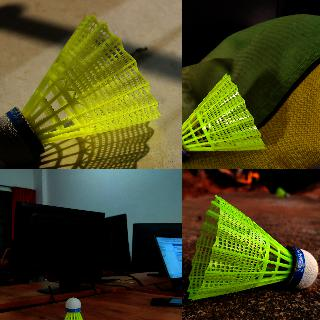shuttlecock: (0, 14, 161, 164), (185, 192, 319, 302), (182, 72, 267, 161), (55, 296, 94, 319)
